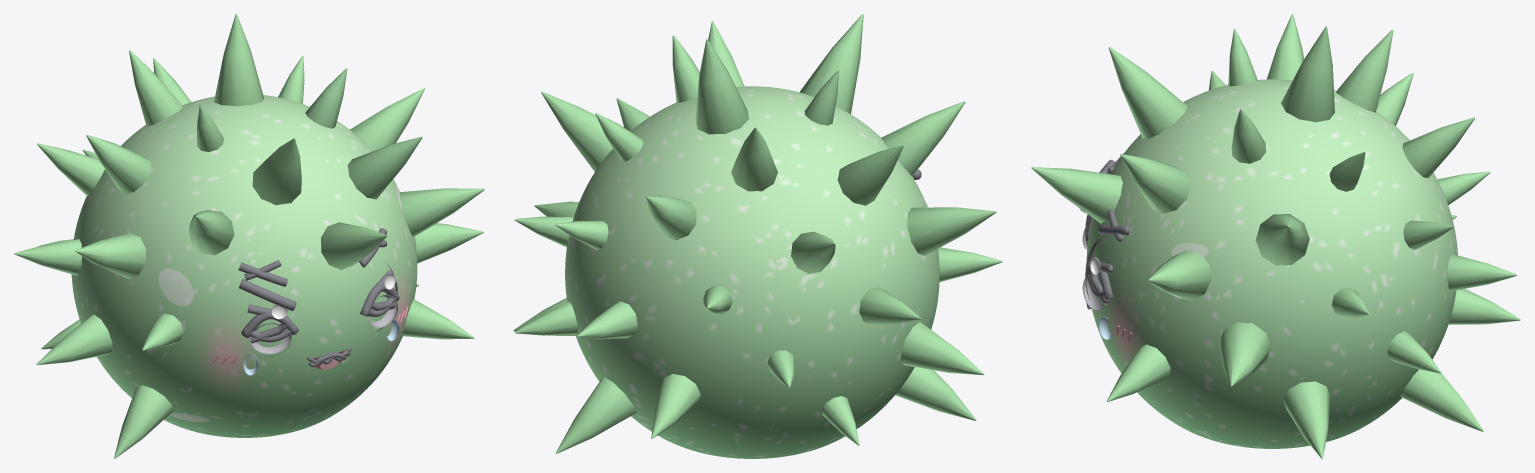
File: v_spike_green_slime.glb
3 renders of one model, left to right at view 1: azimuth 30°, elevation 25°; view 2: azimuth 150°, elevation 25°; view 3: azimuth 270°, elevation 25°, orthographic. The views are drawn at different scales.
Visible parts, largest first — view 1: BodyMesh, face_eyes_normal, face_eyes_happy, face_eyes_strain, face_brow_smug, face_brows_angry, face_eyes_closed; view 2: BodyMesh; view 3: BodyMesh, face_eyes_normal.
Boxes of the visible parts, x1,y1,x2,y2 form: BodyMesh: (14, 14, 484, 458); face_eyes_normal: (250, 263, 397, 356); face_eyes_happy: (241, 284, 399, 338); face_eyes_strain: (247, 270, 395, 343); face_brow_smug: (239, 279, 296, 310); face_brows_angry: (238, 228, 386, 286); face_eyes_closed: (242, 291, 398, 342); BodyMesh: (513, 14, 1002, 458); BodyMesh: (1031, 14, 1520, 458); face_eyes_normal: (1082, 212, 1104, 314).
Size of the model in its own units: 2.3 by 1.92 by 2.11.
